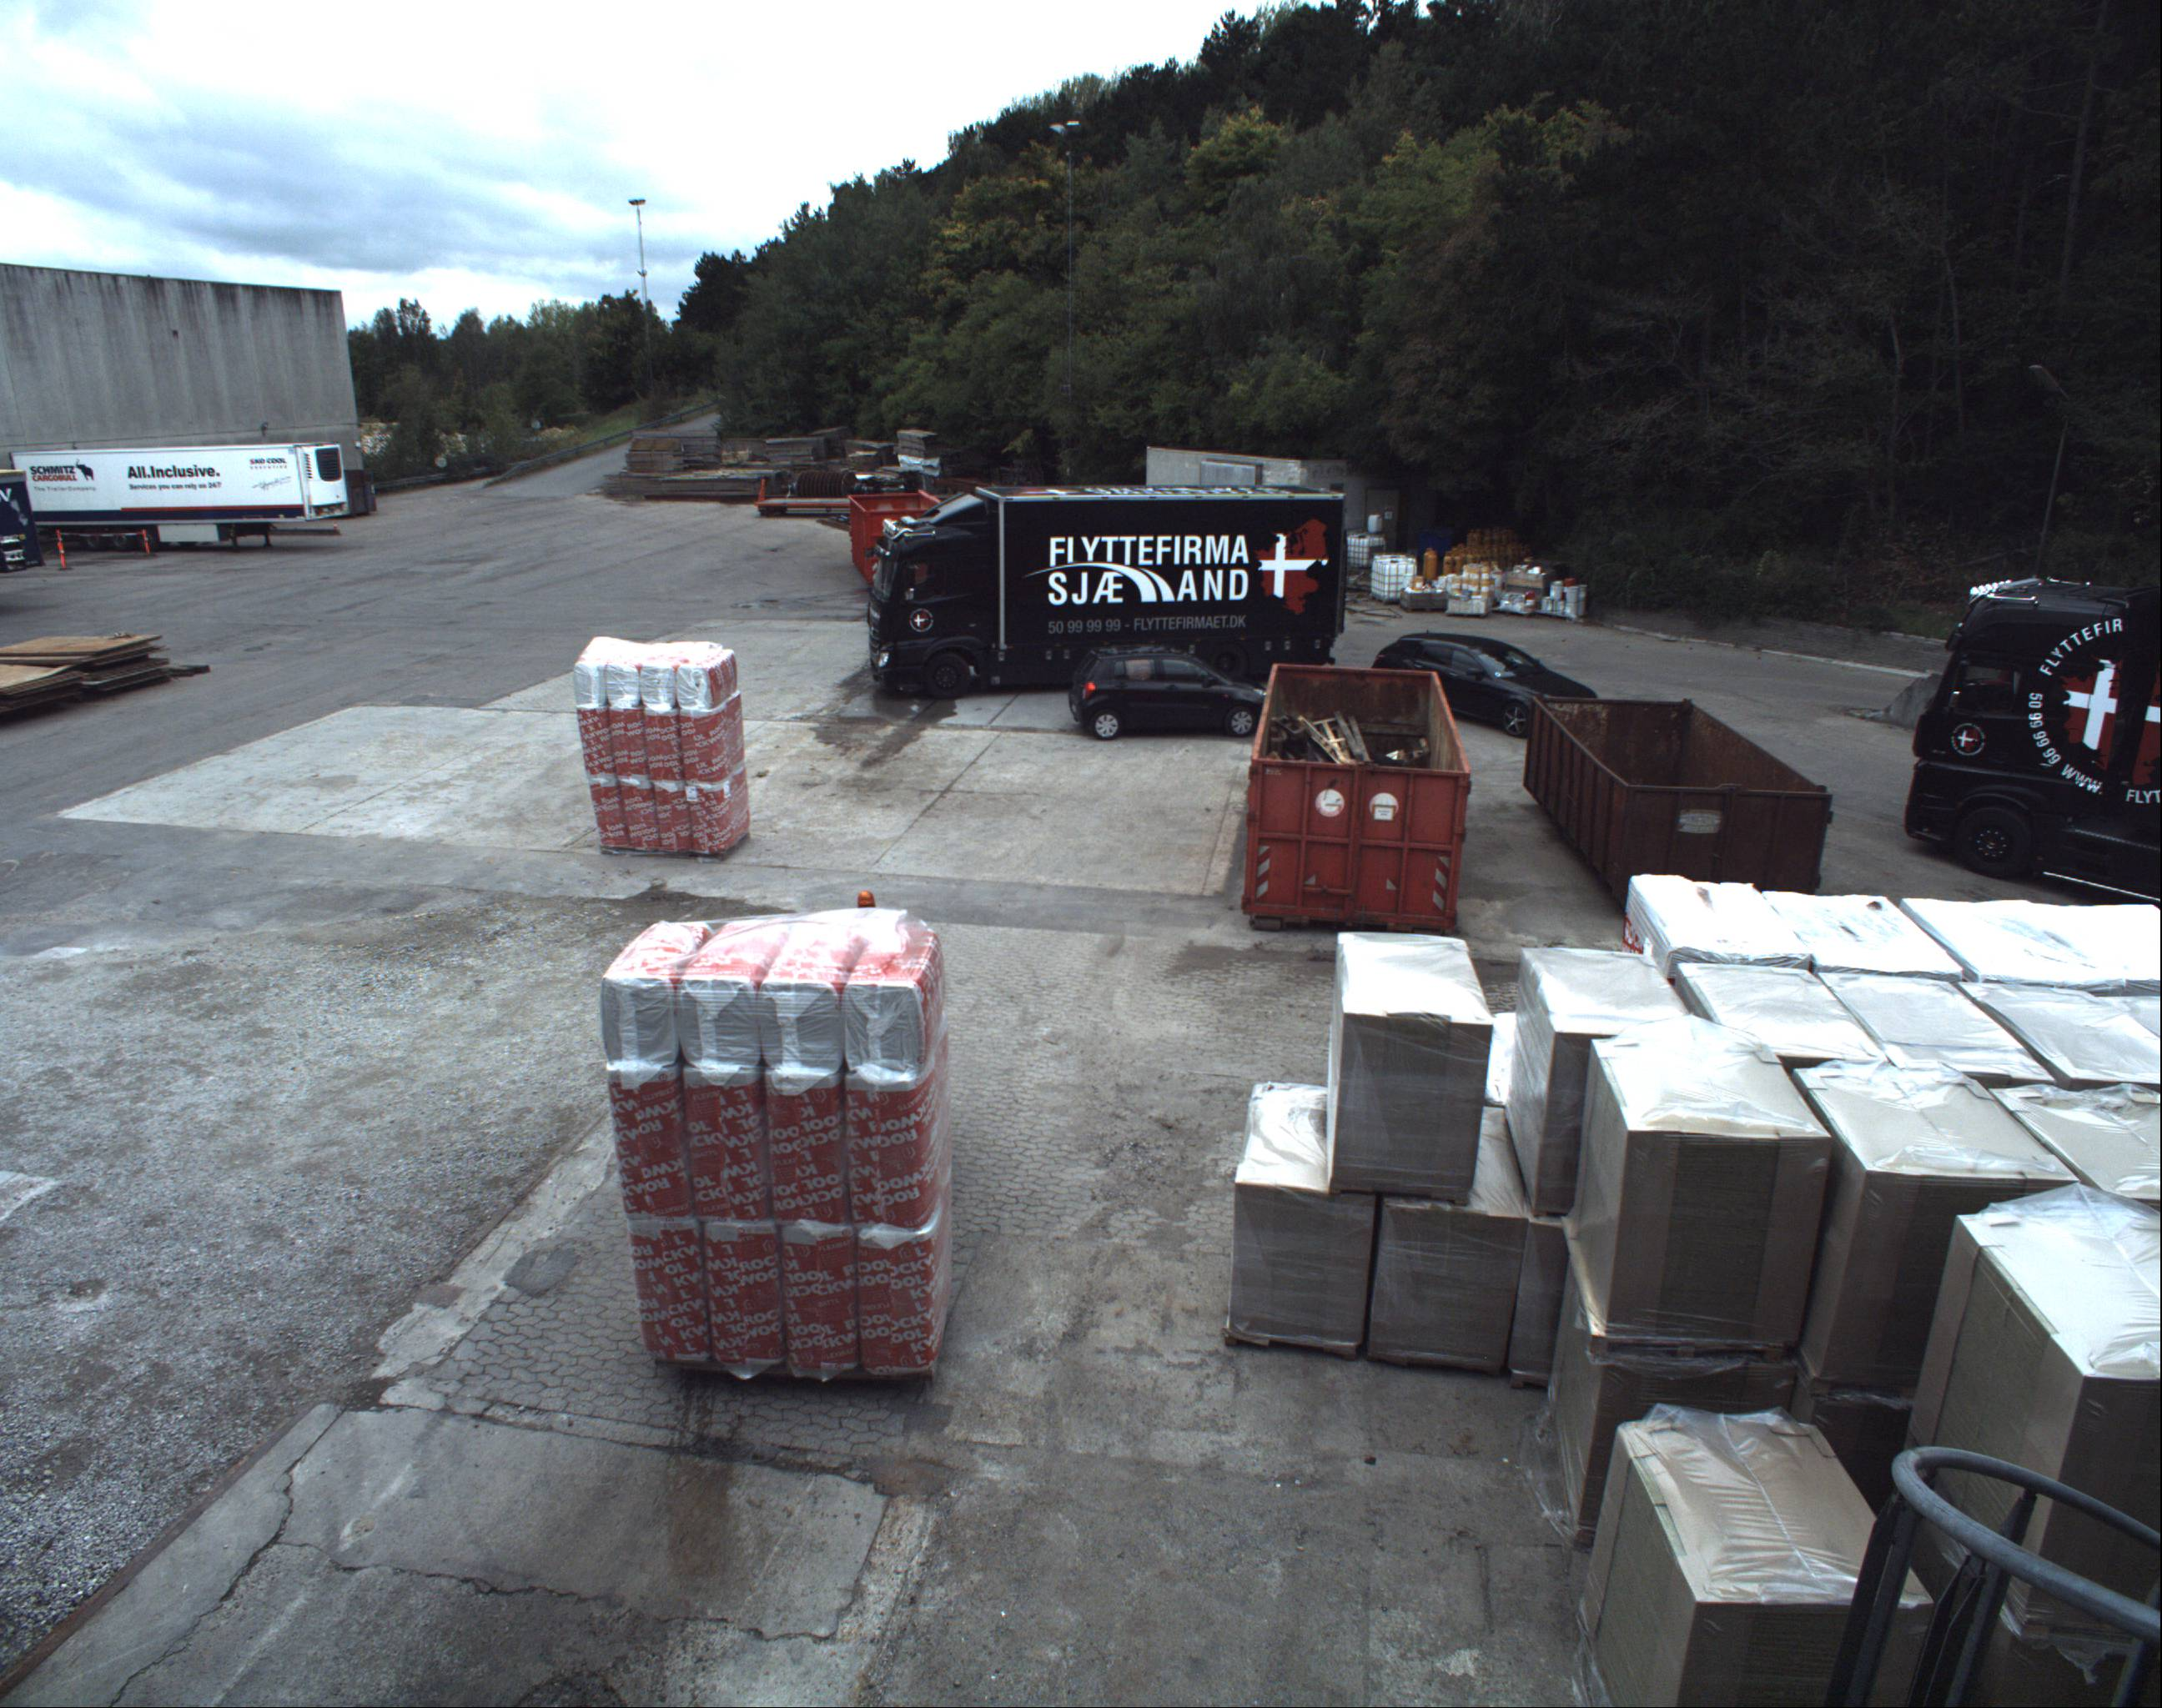rockwool_batts: (616, 913, 944, 1383), (579, 618, 756, 853)
